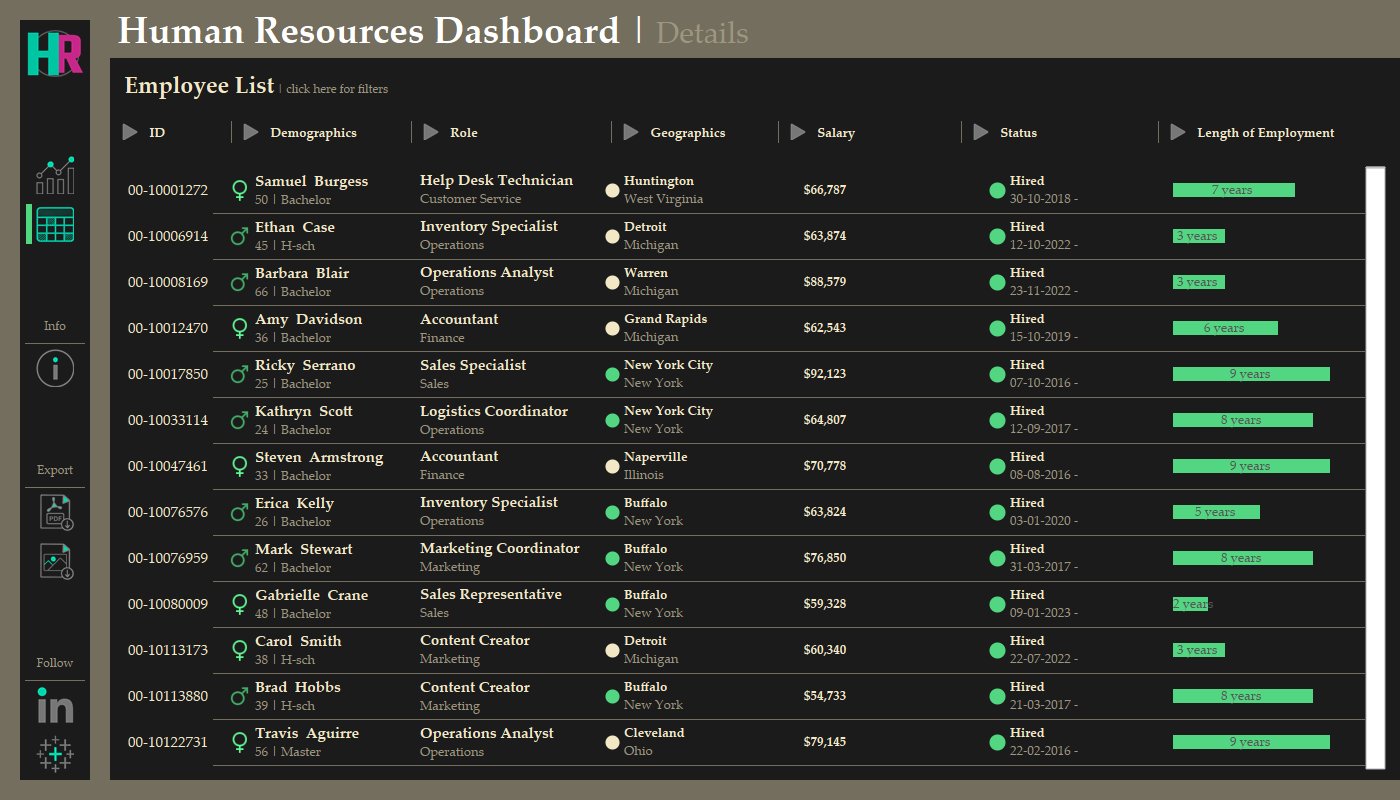

The dashboard page shown, as its layout file describes it:
{"tool":"tableau","page":{"name":"HR | Details","canvas":[1400,800],"ordinal":1},"visuals":[{"type":"text","box":[110,0,697,58]},{"type":"blank","box":[807,0,593,58]},{"type":"image","param":"Image/Logo.png","box":[20,20,70,66]},{"type":"text","box":[117,65,1276,46]},{"type":"blank","box":[20,86,70,70]},{"type":"filter","title":"Detail column","param":"[federated.14v27xn1k8hdcf1fjzytm162q008].[none:Calculation_320600001229742080:nk","box":[615,104,154,58]},{"type":"filter","title":"Detail column","param":"[federated.14v27xn1k8hdcf1fjzytm162q008].[sum:Salary:qk]","box":[782,104,170,70]},{"type":"filter","title":"Detail column","param":"[federated.14v27xn1k8hdcf1fjzytm162q008].[none:Calculation_1274800174297870336:n","box":[965,104,196,56.7]},{"type":"filter","title":"Detail column","param":"[federated.14v27xn1k8hdcf1fjzytm162q008].[sum:Calculation_566327658626932741:qk]","box":[1174,104,222,66]},{"type":"dashboard-object","box":[117,111,25,21.5]},{"type":"text","box":[142,111,83,21.5]},{"type":"blank","box":[225,111,13,43]},{"type":"dashboard-object","box":[238,111,25,42]},{"type":"text","box":[263,111,142,42]},{"type":"blank","box":[405,111,13,43]},{"type":"dashboard-object","box":[418,111,25,21.5]},{"type":"text","box":[443,111,142,21.5]},{"type":"blank","box":[605,111,13,43]},{"type":"dashboard-object","box":[618,111,25,42]},{"type":"text","box":[643,111,129,42]},{"type":"blank","box":[772,111,13,43]},{"type":"dashboard-object","box":[785,111,25,42]},{"type":"text","box":[810,111,145,42]},{"type":"blank","box":[955,111,13,43]},{"type":"dashboard-object","box":[968,111,25,42]},{"type":"text","box":[993,111,171,42]},{"type":"blank","box":[1164,111,13,43]},{"type":"dashboard-object","box":[1177,111,25,42]},{"type":"text","box":[1201.9,111,191.1,42]},{"type":"filter","title":"Detail column","param":"[federated.14v27xn1k8hdcf1fjzytm162q008].[none:Employee_ID:nk]","box":[117,132.5,108,21.5]},{"type":"filter","title":"Detail column","param":"[federated.14v27xn1k8hdcf1fjzytm162q008].[none:Calculation_566327658620870658:nk","box":[238,132.5,167,5.4]},{"type":"filter","title":"Detail column","param":"[federated.14v27xn1k8hdcf1fjzytm162q008].[none:Job Title:nk]","box":[418,132.5,187,10.8]},{"type":"filter","title":"Detail column","param":"[federated.14v27xn1k8hdcf1fjzytm162q008].[none:Gender:nk]","box":[238,137.9,167,5.4]},{"type":"filter","title":"Detail column","param":"[federated.14v27xn1k8hdcf1fjzytm162q008].[none:Calculation_320600001239764996:nk","box":[238,143.2,167,5.4]},{"type":"filter","title":"Detail column","param":"[federated.14v27xn1k8hdcf1fjzytm162q008].[none:Department:nk]","box":[418,143.2,187,10.8]},{"type":"filter","title":"Detail column","param":"[federated.14v27xn1k8hdcf1fjzytm162q008].[none:Education Level:nk]","box":[238,148.6,167,5.4]},{"type":"dashboard-object","box":[20,156,70,38]},{"type":"filter","title":"Detail column","param":"[federated.14v27xn1k8hdcf1fjzytm162q008].[yr:Hiredate:ok]","box":[965,160.7,196,56.7]},{"type":"filter","title":"Detail column","param":"[federated.14v27xn1k8hdcf1fjzytm162q008].[none:State:nk]","box":[615,162,154,58]},{"type":"worksheet","title":"Detail column","mark":"Shape","rows":["Employee_ID"],"cols":["Calculation_566327658622472196","Calculation_566327658622472196","Calculation_566327658622472196","Calculation_566327658622472196","Calculation_566327658622472196","Calculation_566327658626932741"],"box":[117,164,1276,597]},{"type":"blank","box":[20,194,70,11]},{"type":"blank","box":[26,204,6,40]},{"type":"dashboard-object","box":[20,205,70,38]},{"type":"filter","title":"Detail column","param":"[federated.14v27xn1k8hdcf1fjzytm162q008].[yr:Termdate:ok]","box":[965,217.3,196,56.7]},{"type":"filter","title":"Detail column","param":"[federated.14v27xn1k8hdcf1fjzytm162q008].[none:City:nk]","box":[615,220,154,58]},{"type":"blank","box":[20,243,70,70]},{"type":"text","box":[91,251,1309,344]},{"type":"text","box":[20,313,70,25]},{"type":"blank","box":[20,338,70,11]},{"type":"dashboard-object","box":[20,349,70,38]},{"type":"blank","box":[20,387,70,70]},{"type":"text","box":[20,457,70,25]},{"type":"blank","box":[20,482,70,11]},{"type":"dashboard-object","box":[20,493,70,38]},{"type":"blank","box":[20,531,70,11]},{"type":"dashboard-object","box":[20,542,70,38]},{"type":"blank","box":[20,580,70,70]},{"type":"text","box":[20,650,70,25]},{"type":"blank","box":[20,675,70,11]},{"type":"image","param":"Image/contact-linkedin.png","box":[20,686,70,38]},{"type":"blank","box":[20,724,70,11]},{"type":"image","param":"Image/contact-public.png","box":[20,735,70,38]}]}

Visuals, with their boxes in screenshot pixels (x1, y1, x2, y2), scaled from the page's 1400x800 canvas onto the 1400x800 screenshot:
text: (x1=110, y1=0, x2=807, y2=58)
blank: (x1=807, y1=0, x2=1399, y2=58)
image: (x1=20, y1=20, x2=90, y2=86)
text: (x1=117, y1=65, x2=1393, y2=111)
blank: (x1=20, y1=86, x2=90, y2=156)
"Detail column" filter: (x1=615, y1=104, x2=769, y2=162)
"Detail column" filter: (x1=782, y1=104, x2=952, y2=174)
"Detail column" filter: (x1=965, y1=104, x2=1161, y2=161)
"Detail column" filter: (x1=1174, y1=104, x2=1396, y2=170)
dashboard-object: (x1=117, y1=111, x2=142, y2=132)
text: (x1=142, y1=111, x2=225, y2=132)
blank: (x1=225, y1=111, x2=238, y2=154)
dashboard-object: (x1=238, y1=111, x2=263, y2=153)
text: (x1=263, y1=111, x2=405, y2=153)
blank: (x1=405, y1=111, x2=418, y2=154)
dashboard-object: (x1=418, y1=111, x2=443, y2=132)
text: (x1=443, y1=111, x2=585, y2=132)
blank: (x1=605, y1=111, x2=618, y2=154)
dashboard-object: (x1=618, y1=111, x2=643, y2=153)
text: (x1=643, y1=111, x2=772, y2=153)
blank: (x1=772, y1=111, x2=785, y2=154)
dashboard-object: (x1=785, y1=111, x2=810, y2=153)
text: (x1=810, y1=111, x2=955, y2=153)
blank: (x1=955, y1=111, x2=968, y2=154)
dashboard-object: (x1=968, y1=111, x2=993, y2=153)
text: (x1=993, y1=111, x2=1164, y2=153)
blank: (x1=1164, y1=111, x2=1177, y2=154)
dashboard-object: (x1=1177, y1=111, x2=1202, y2=153)
text: (x1=1202, y1=111, x2=1393, y2=153)
"Detail column" filter: (x1=117, y1=132, x2=225, y2=154)
"Detail column" filter: (x1=238, y1=132, x2=405, y2=138)
"Detail column" filter: (x1=418, y1=132, x2=605, y2=143)
"Detail column" filter: (x1=238, y1=138, x2=405, y2=143)
"Detail column" filter: (x1=238, y1=143, x2=405, y2=149)
"Detail column" filter: (x1=418, y1=143, x2=605, y2=154)
"Detail column" filter: (x1=238, y1=149, x2=405, y2=154)
dashboard-object: (x1=20, y1=156, x2=90, y2=194)
"Detail column" filter: (x1=965, y1=161, x2=1161, y2=217)
"Detail column" filter: (x1=615, y1=162, x2=769, y2=220)
"Detail column" worksheet (Shape marks): (x1=117, y1=164, x2=1393, y2=761)
blank: (x1=20, y1=194, x2=90, y2=205)
blank: (x1=26, y1=204, x2=32, y2=244)
dashboard-object: (x1=20, y1=205, x2=90, y2=243)
"Detail column" filter: (x1=965, y1=217, x2=1161, y2=274)
"Detail column" filter: (x1=615, y1=220, x2=769, y2=278)
blank: (x1=20, y1=243, x2=90, y2=313)
text: (x1=91, y1=251, x2=1399, y2=595)
text: (x1=20, y1=313, x2=90, y2=338)
blank: (x1=20, y1=338, x2=90, y2=349)
dashboard-object: (x1=20, y1=349, x2=90, y2=387)
blank: (x1=20, y1=387, x2=90, y2=457)
text: (x1=20, y1=457, x2=90, y2=482)
blank: (x1=20, y1=482, x2=90, y2=493)
dashboard-object: (x1=20, y1=493, x2=90, y2=531)
blank: (x1=20, y1=531, x2=90, y2=542)
dashboard-object: (x1=20, y1=542, x2=90, y2=580)
blank: (x1=20, y1=580, x2=90, y2=650)
text: (x1=20, y1=650, x2=90, y2=675)
blank: (x1=20, y1=675, x2=90, y2=686)
image: (x1=20, y1=686, x2=90, y2=724)
blank: (x1=20, y1=724, x2=90, y2=735)
image: (x1=20, y1=735, x2=90, y2=773)
